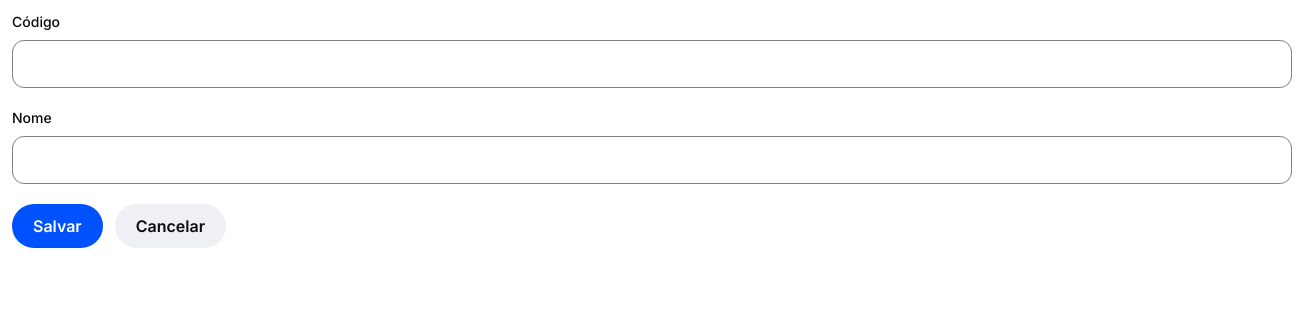
Test: GrupoForm › mostra banner e mantém os dados em falha de rede
Type "HEM" into the field labelled "Código".
click(652, 64); type("HEM")  # box [12, 40, 1292, 88]
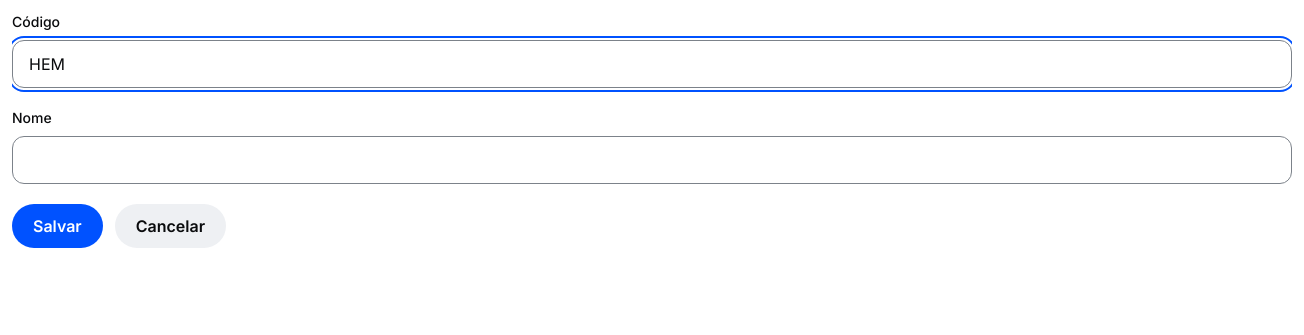
Type "Hematologia" into the field labelled "Nome".
click(652, 160); type("Hematologia")  # box [12, 136, 1292, 184]
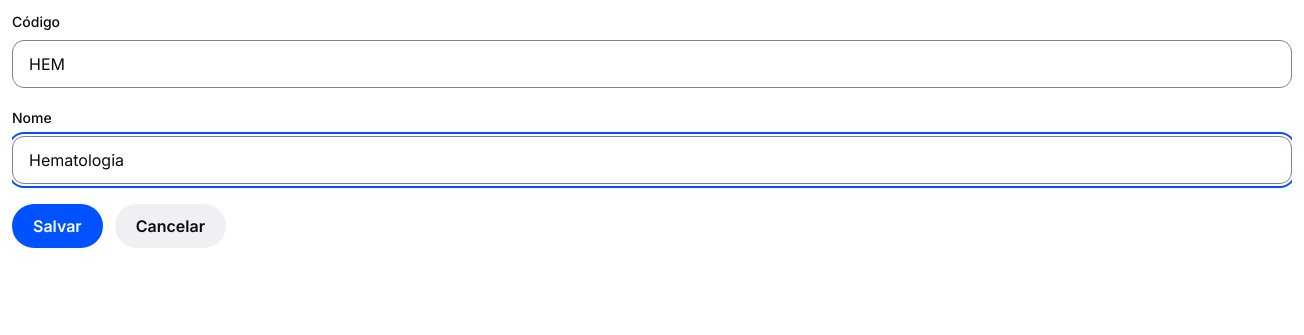
Click the button "Salvar".
click(57, 226)  # box [12, 204, 103, 248]
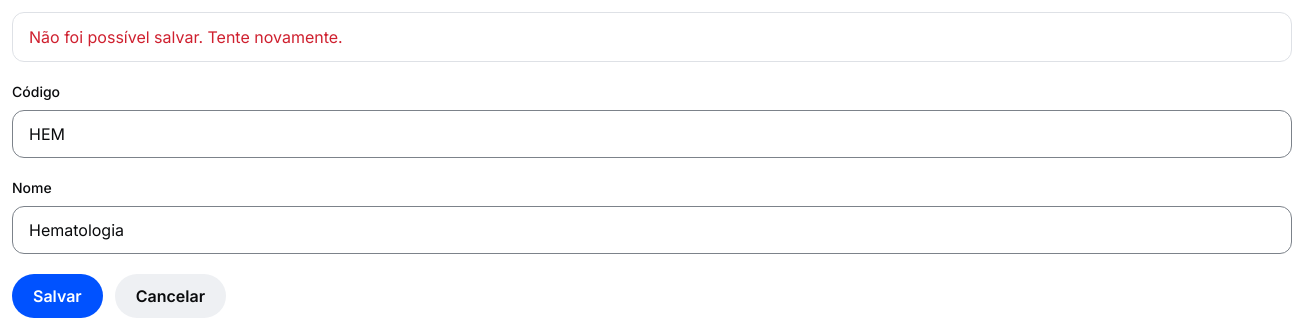
Check: the message reads "Não foi possível salvar. Tente novamente.", box [29, 27, 343, 47]
